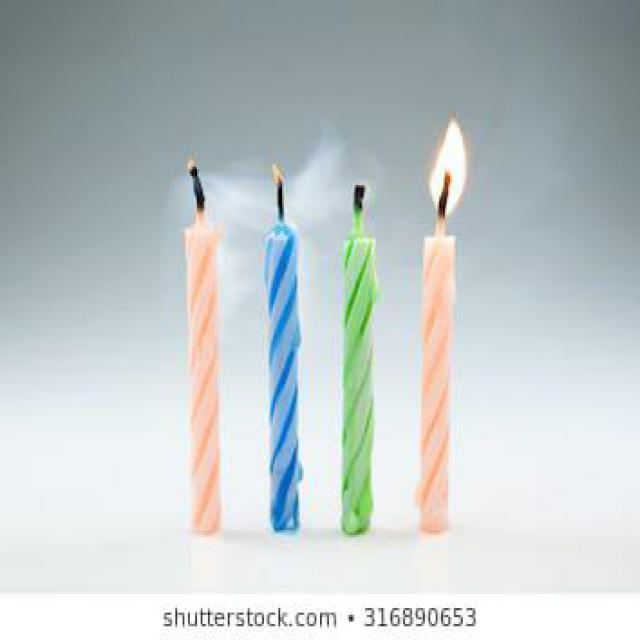Fire: (428, 119, 470, 224)
